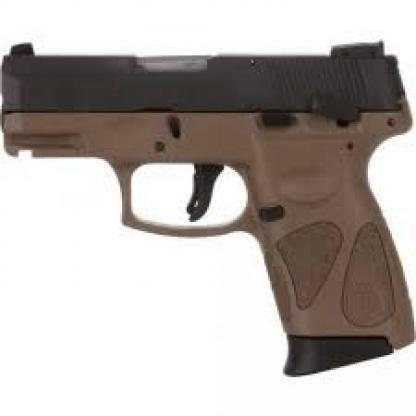Pistol: (0, 35, 414, 379)
